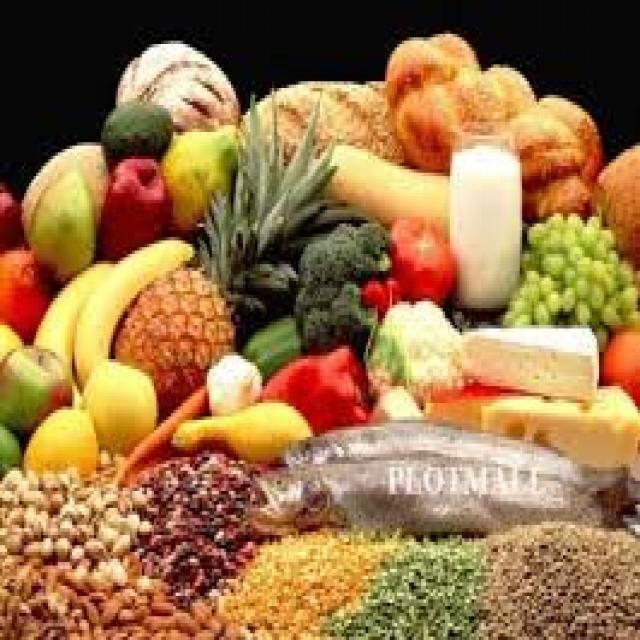organic waste: (383, 27, 599, 213), (188, 78, 342, 322), (243, 461, 638, 532), (279, 413, 630, 491), (134, 447, 264, 603), (472, 514, 638, 636), (212, 532, 404, 636), (0, 552, 233, 636), (72, 233, 193, 389), (0, 460, 154, 582), (113, 260, 233, 410), (327, 532, 484, 636), (500, 206, 638, 322), (481, 380, 638, 468), (240, 71, 400, 156), (29, 254, 113, 413), (17, 139, 108, 278), (291, 217, 387, 345), (320, 139, 448, 230), (454, 318, 596, 400), (450, 135, 517, 298), (113, 37, 236, 122), (363, 294, 457, 400), (255, 342, 368, 427), (168, 396, 313, 461), (156, 122, 238, 234), (111, 379, 207, 471), (96, 149, 168, 257), (77, 356, 154, 450), (0, 342, 70, 430), (388, 210, 452, 301), (592, 136, 637, 258), (19, 403, 94, 474), (0, 240, 51, 338), (98, 98, 170, 166), (424, 386, 506, 430), (204, 349, 260, 410), (599, 318, 638, 400), (368, 376, 419, 416), (0, 179, 26, 247), (361, 271, 397, 311), (0, 315, 19, 366), (0, 416, 17, 464), (96, 447, 108, 464)
